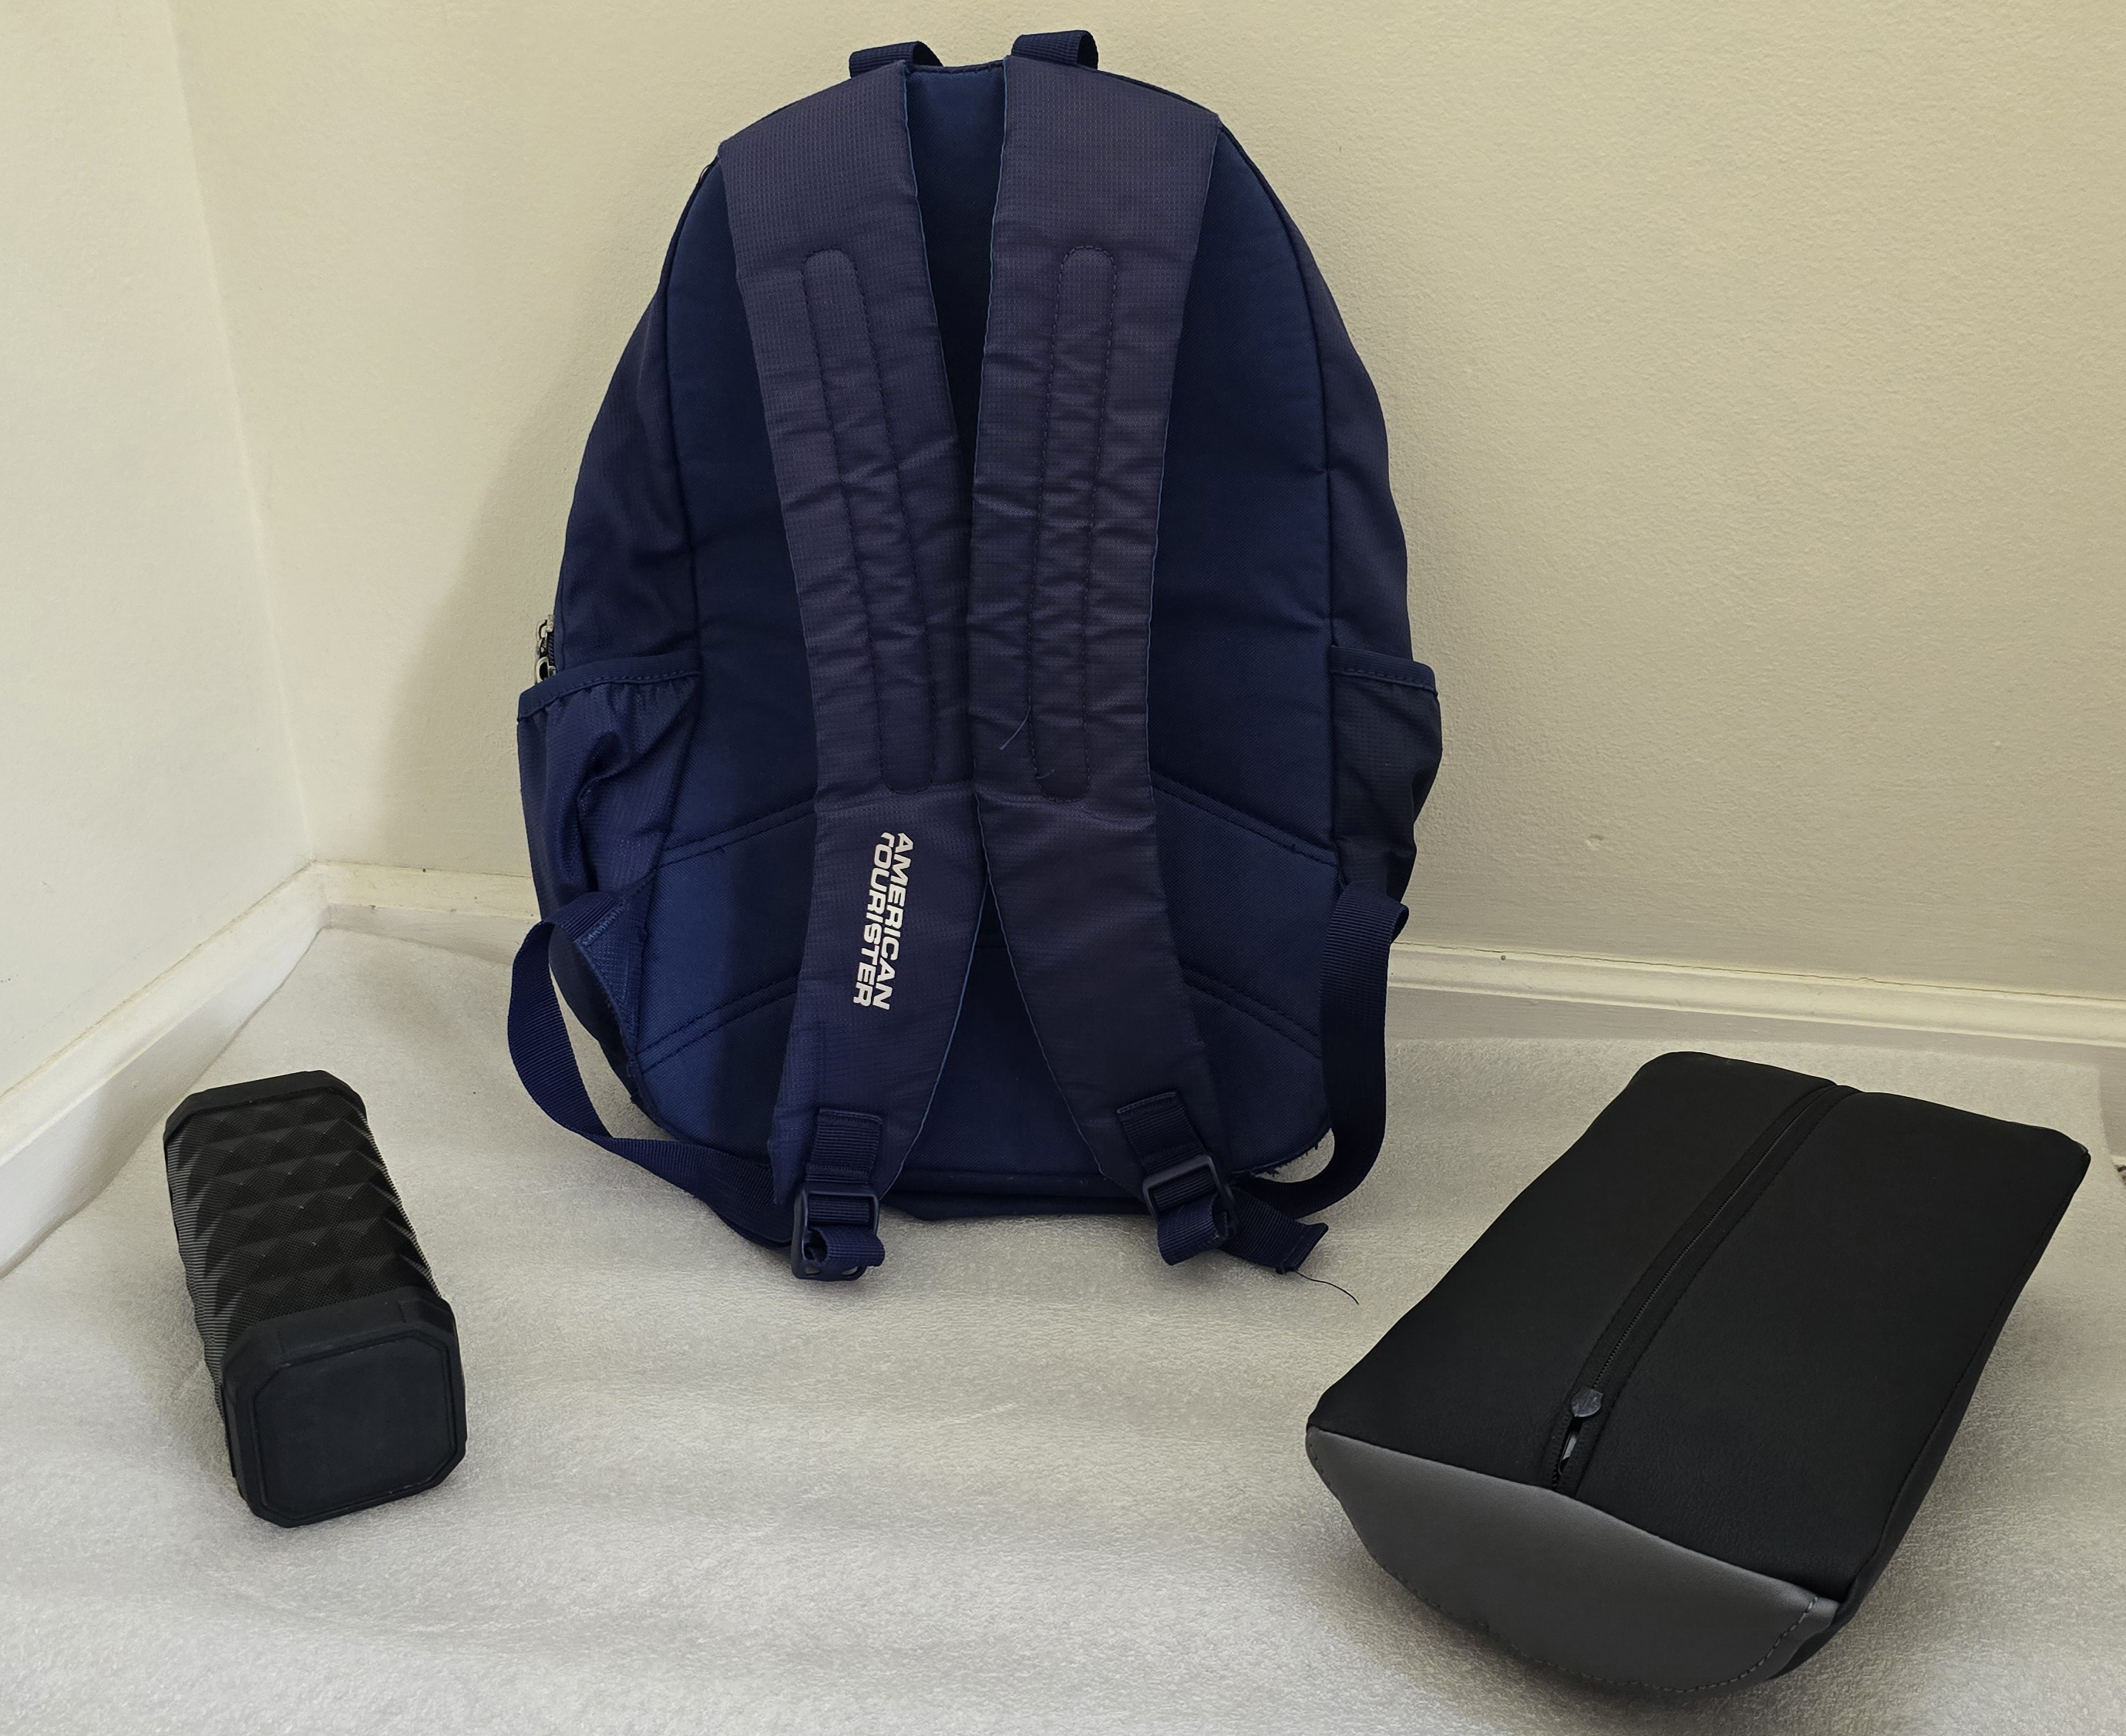bag: (489, 18, 1444, 1272)
